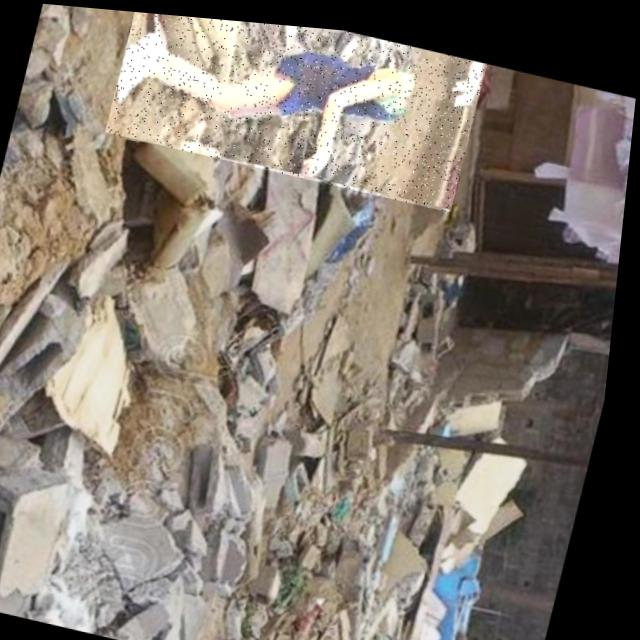Person in Rubble: (102, 8, 488, 205)
